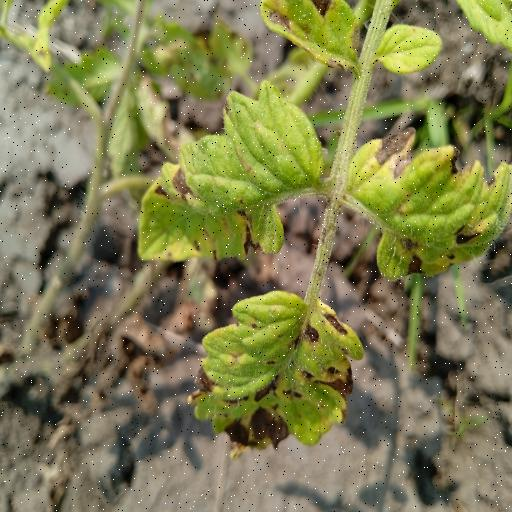Tomato_Brown_Spots: (136, 79, 333, 270), (192, 286, 369, 453), (342, 125, 512, 289)
